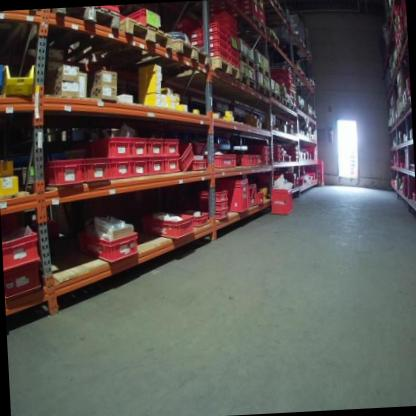pallet: (61, 14, 171, 76), (99, 34, 215, 92), (154, 53, 242, 91), (47, 6, 123, 37), (217, 13, 266, 40), (237, 74, 258, 97), (262, 25, 281, 49), (239, 50, 257, 74), (251, 84, 272, 103), (256, 64, 272, 79), (271, 90, 283, 103), (288, 101, 298, 116), (282, 98, 290, 113)
small_load_carrier: (76, 218, 142, 264), (1, 220, 42, 268), (139, 207, 195, 240), (4, 260, 46, 304), (41, 158, 84, 189), (216, 177, 251, 215), (83, 134, 134, 160), (77, 152, 111, 185), (247, 159, 269, 209), (124, 8, 163, 33), (268, 186, 293, 215), (110, 157, 135, 179), (180, 142, 197, 174), (204, 153, 237, 169), (185, 207, 210, 228), (148, 156, 167, 178), (200, 188, 227, 203), (148, 137, 166, 157), (164, 137, 181, 158), (131, 136, 147, 158), (132, 157, 148, 178), (208, 48, 229, 64), (203, 24, 228, 37), (166, 157, 181, 176), (201, 201, 229, 211), (238, 154, 254, 171), (207, 32, 228, 43), (210, 39, 229, 51), (215, 209, 230, 222), (192, 161, 208, 173), (254, 142, 270, 153), (188, 28, 204, 38), (189, 37, 204, 46), (253, 153, 263, 166), (256, 193, 264, 206), (264, 153, 270, 160)
